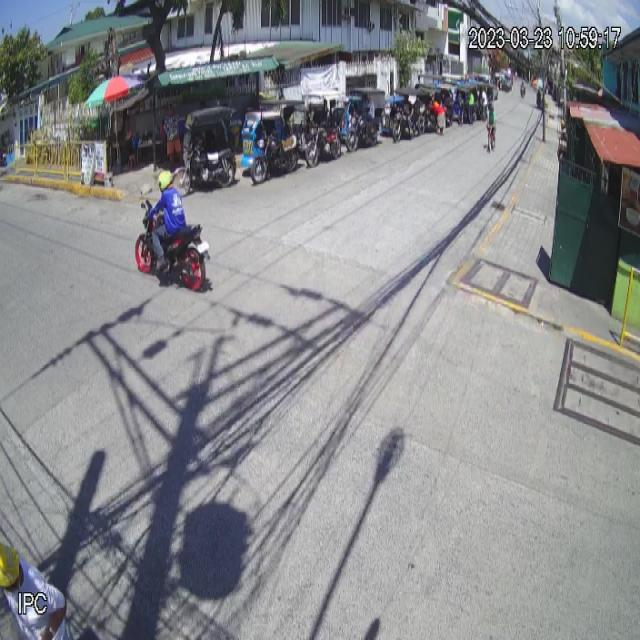Motorcycle: (135, 199, 212, 293)
